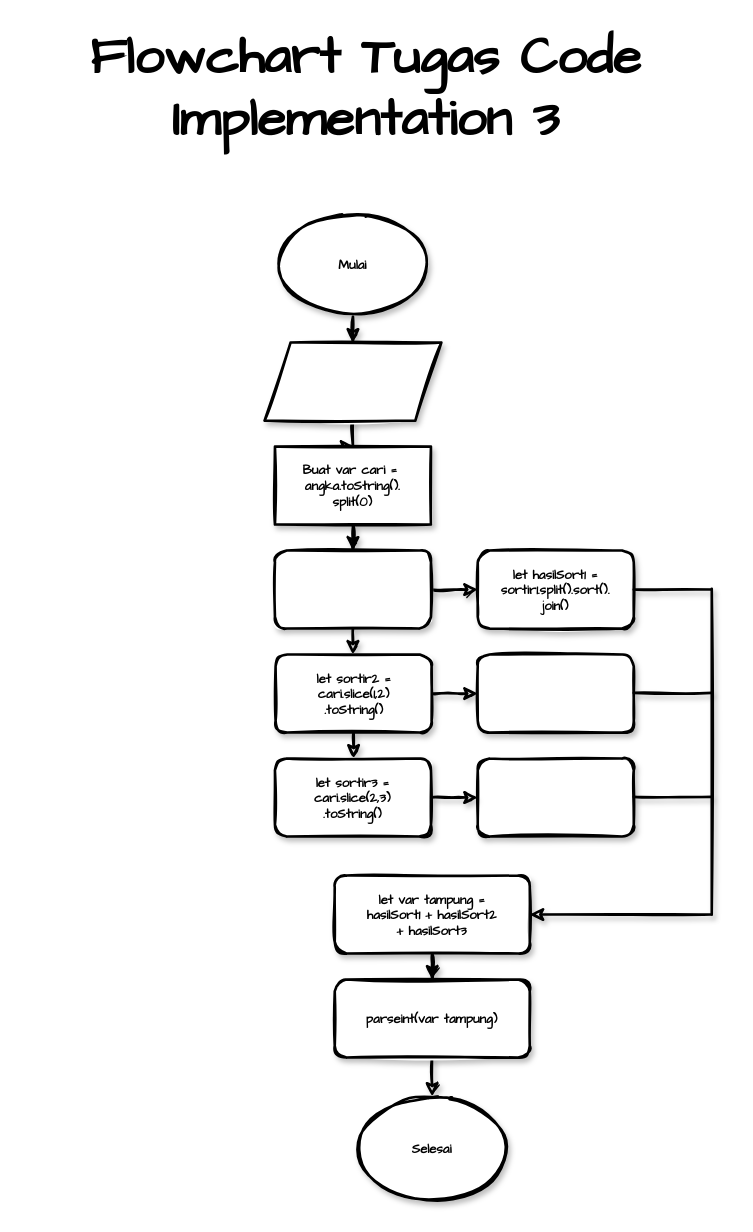
Image size: 753x1232. Some labels were removed from this diagram. The shapes that lost their labels are listed below. From the top down, each one's centre as x and y in pixels, then its label:
At [353,382]: "Input Parameter".
At [353,590]: "let sortir1 = cari.slice(0,1) .toString()".
At [556,694]: "let hasilSort2 = sortir1.split().sort(). join()".
At [556,798]: "let hasilSort3 = sortir1.split().sort(). join()".
